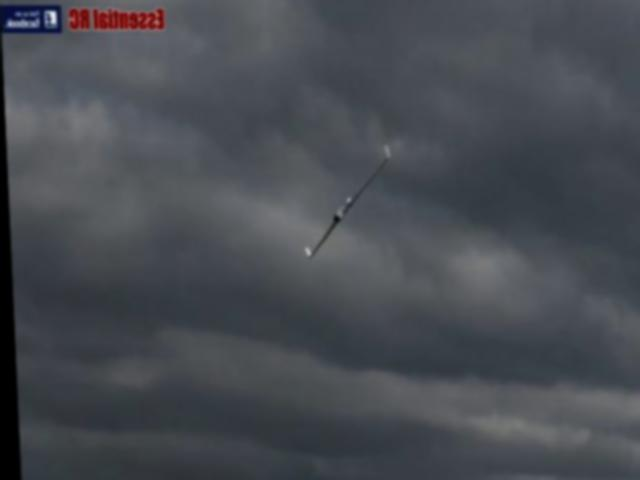flying wing: (294, 137, 395, 266)
